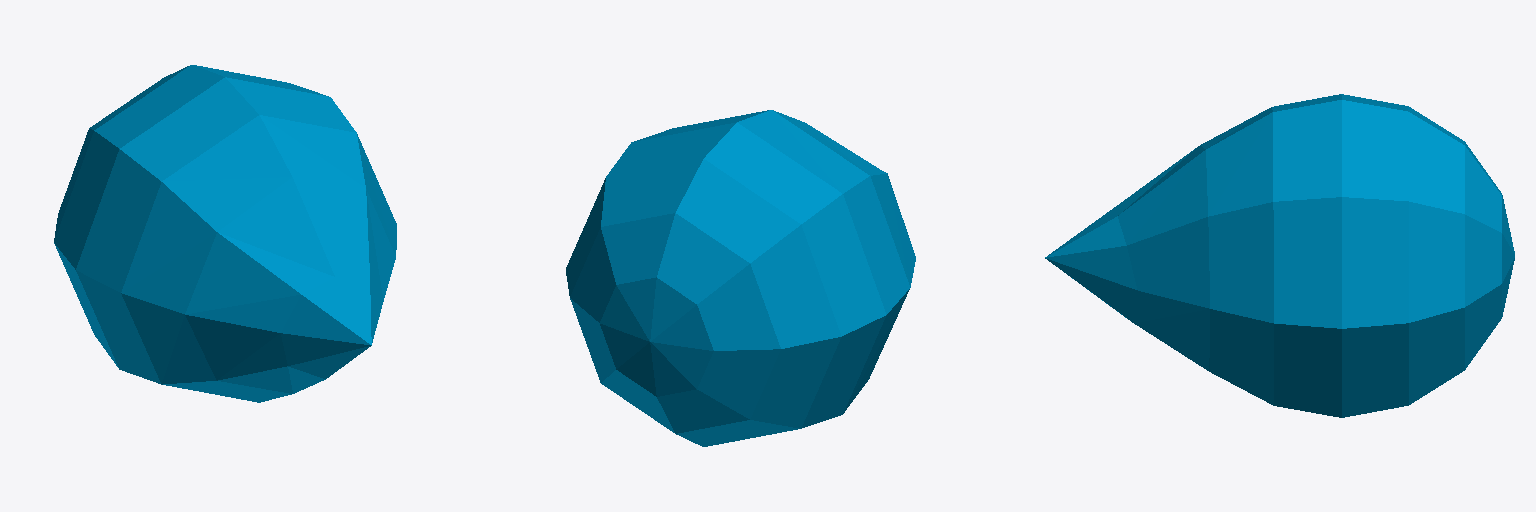
The model's file is drop.obj.
The picture shows the model from 3 angles: view 1: azimuth 30°, elevation 25°; view 2: azimuth 150°, elevation 25°; view 3: azimuth 270°, elevation 25°; orthographic projection.
Visible parts, largest first — view 1: drop; view 2: drop; view 3: drop.
Part boxes in pixels (x1,y1,x2,y2): drop: (54, 65, 396, 402); drop: (566, 110, 915, 446); drop: (1045, 94, 1514, 417).
Bounding box in the file's own units: 2 × 2 × 2.73.